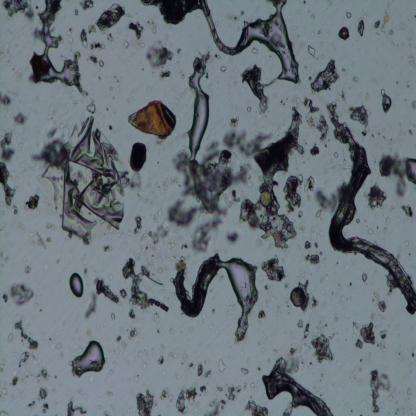Air bubble: (241, 0, 302, 81), (219, 260, 258, 344), (183, 56, 210, 162), (43, 49, 82, 87), (71, 339, 106, 376), (37, 0, 57, 58), (68, 272, 84, 298), (404, 153, 416, 183)
Background material: (154, 129, 268, 251), (39, 113, 131, 241), (242, 108, 306, 246), (119, 260, 168, 320), (275, 323, 314, 373), (127, 101, 177, 139), (141, 0, 201, 27), (376, 150, 408, 198), (349, 318, 390, 353), (240, 68, 270, 115), (367, 365, 394, 415), (0, 131, 17, 207), (90, 2, 128, 36), (326, 104, 356, 146), (126, 214, 168, 244), (308, 56, 340, 95), (307, 328, 336, 368), (304, 92, 328, 140), (161, 339, 193, 372), (146, 47, 178, 80), (79, 27, 107, 64), (93, 272, 122, 307), (174, 383, 206, 412), (12, 317, 39, 351), (26, 51, 51, 85), (260, 256, 287, 284), (363, 182, 389, 211), (127, 344, 153, 372), (1, 285, 35, 306), (347, 106, 369, 138), (2, 0, 35, 21), (304, 230, 322, 267), (135, 385, 156, 415), (26, 388, 51, 411), (116, 326, 142, 346), (316, 191, 338, 214), (126, 19, 146, 44), (370, 14, 393, 35), (30, 365, 51, 386), (245, 400, 270, 416), (304, 285, 318, 313), (379, 88, 394, 114), (82, 294, 98, 317), (159, 320, 176, 340), (66, 400, 86, 415), (16, 350, 32, 368), (225, 385, 241, 402), (401, 202, 415, 221), (302, 175, 315, 195), (25, 194, 41, 210), (198, 362, 212, 379), (7, 372, 21, 389), (0, 88, 12, 107), (375, 293, 387, 312), (13, 112, 29, 126), (337, 25, 351, 40), (80, 0, 96, 12), (356, 21, 366, 38), (85, 101, 97, 115), (308, 144, 320, 156), (306, 43, 315, 58), (101, 244, 112, 256), (218, 359, 227, 373), (360, 271, 368, 285), (257, 310, 266, 320), (158, 354, 166, 365), (240, 368, 249, 376), (25, 264, 32, 274), (346, 10, 352, 18), (113, 316, 116, 322)
Cellulose filter fibre: (327, 145, 416, 314), (263, 371, 334, 415), (199, 1, 248, 57), (174, 256, 218, 318)
Diatom: (289, 287, 306, 307), (260, 191, 273, 206)
